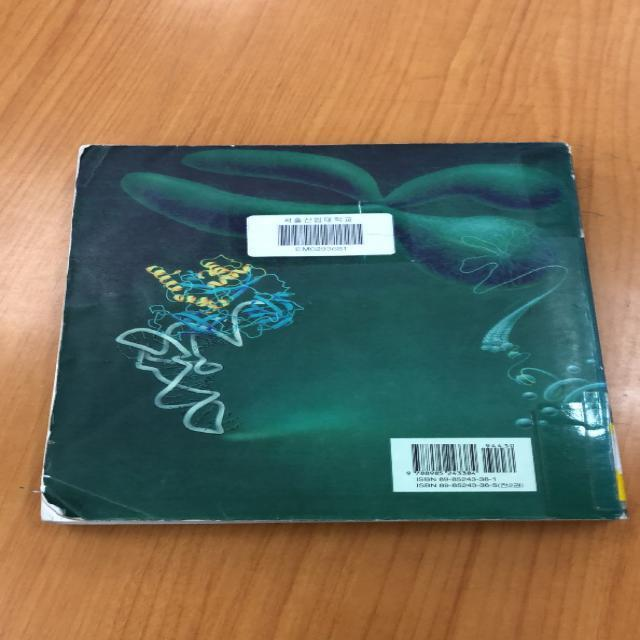Ripped: (570, 502, 634, 523), (555, 134, 579, 186)
Wornout: (38, 320, 82, 472), (64, 143, 97, 263), (359, 502, 506, 526), (34, 472, 86, 526)
